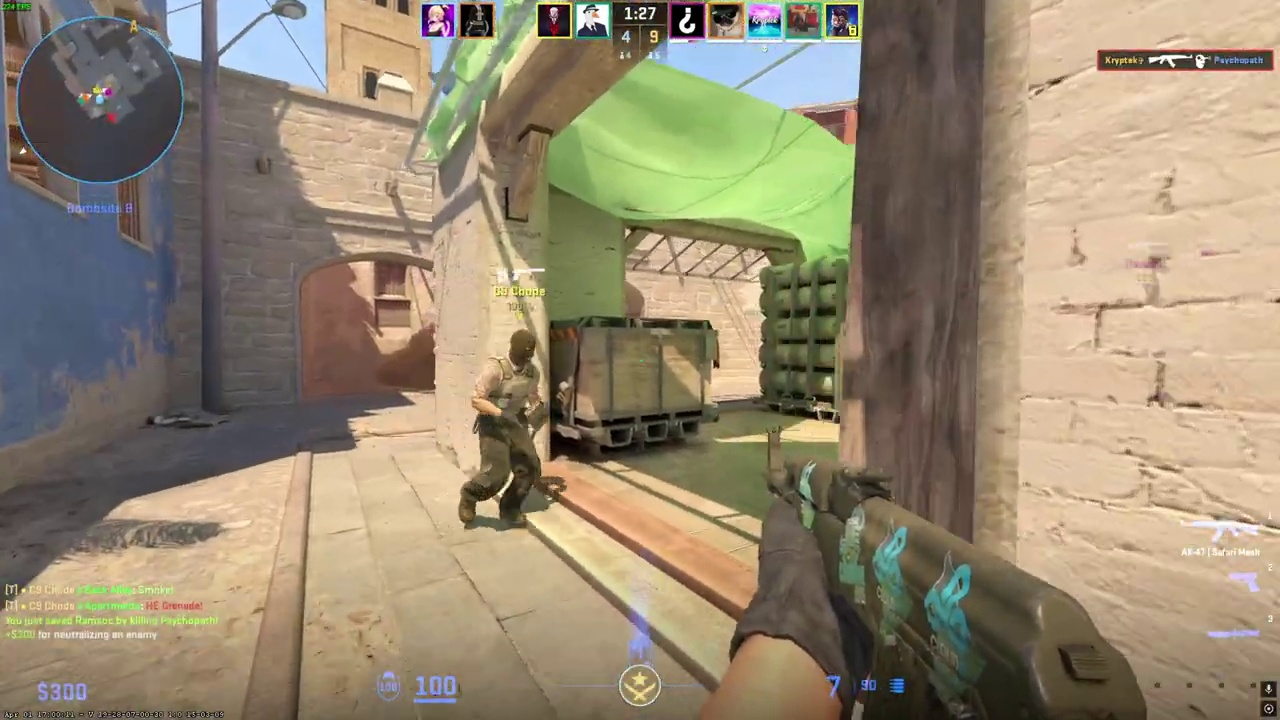Terrorist: (455, 327, 556, 533)
